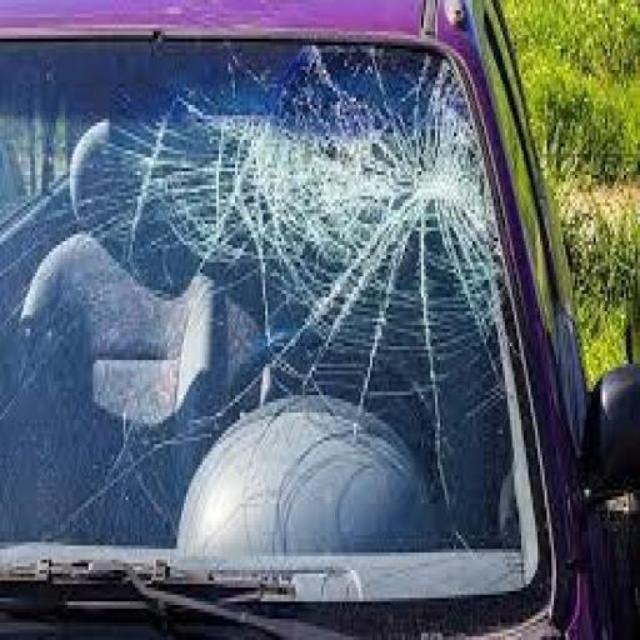glass shatter: (256, 87, 491, 332)
